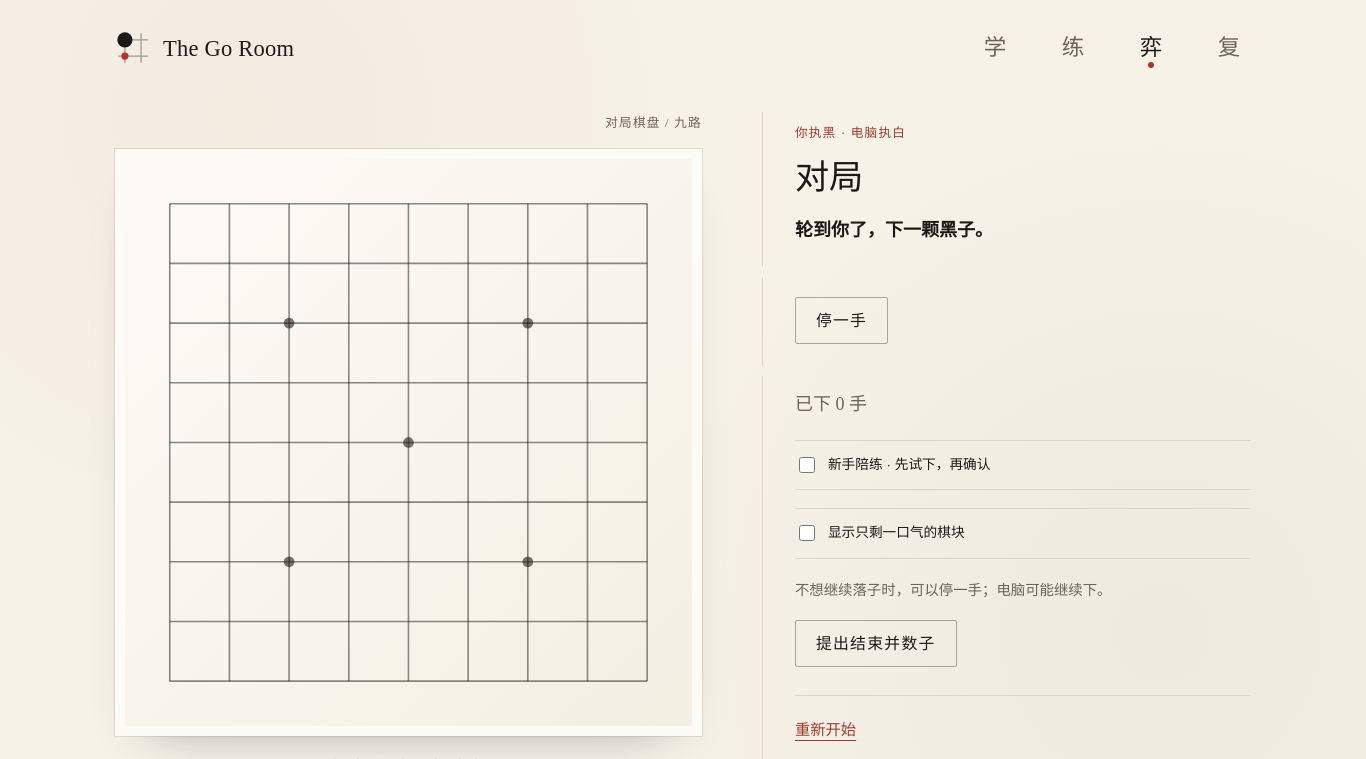
Test case: 对局到复盘的完整路径 › 确认数子后自动进入复盘并保存，重新挂载仍可回看
Later steps or results of the test are not shown.
Click the button "停一手": (842, 320) [795,297,888,344]
Wait 350 ms
(page scrolled)
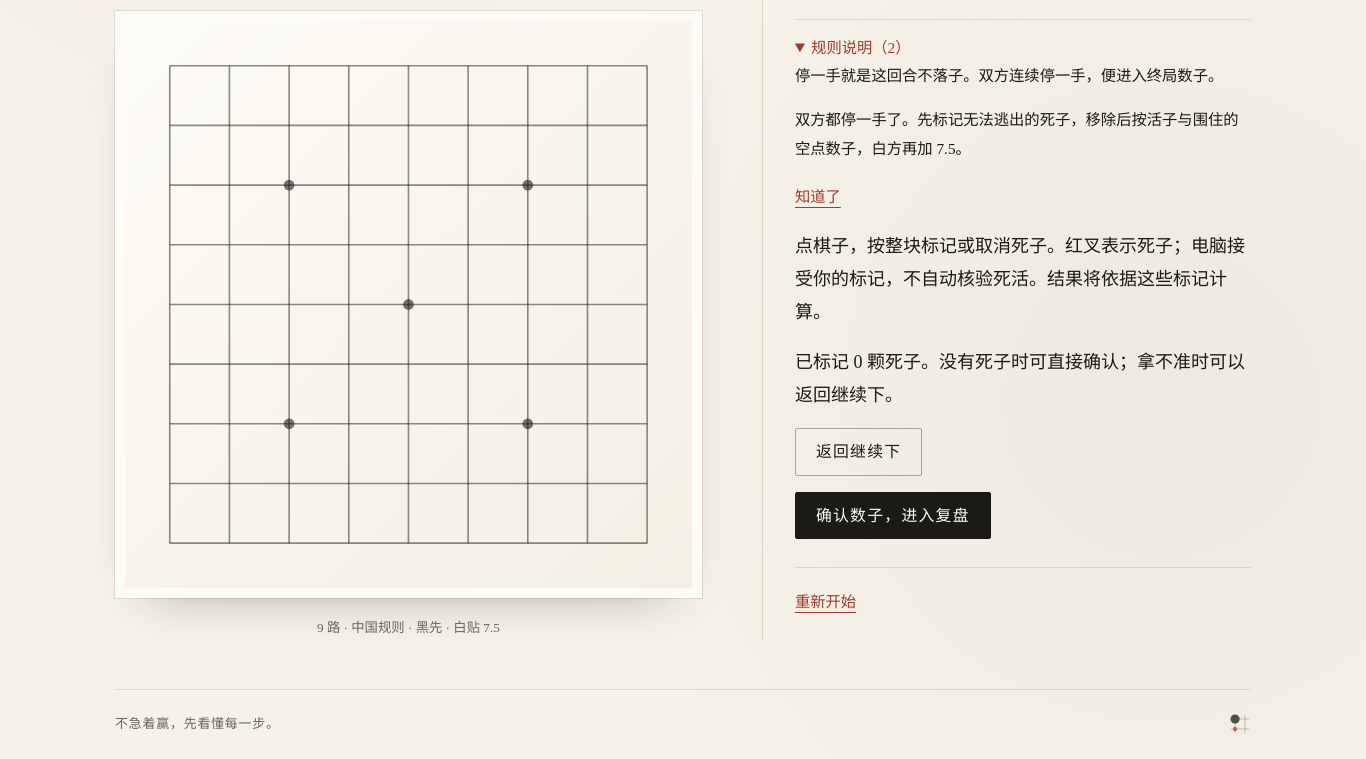
Click the button "确认数子，进入复盘": (893, 515) [795,492,991,539]
(page scrolled)
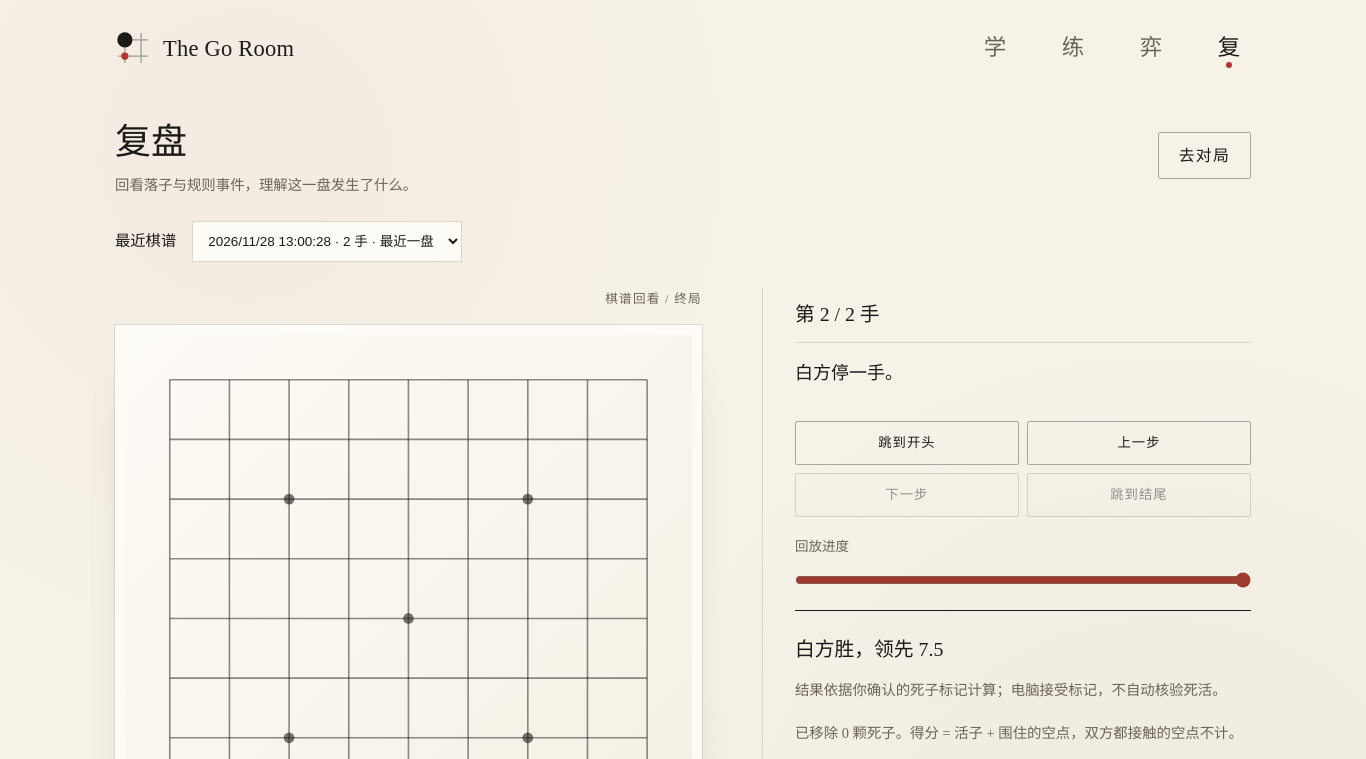
Result: the heading "白方胜，领先 7.5" is shown at [795,638,943,660]
Result: the heading "第 2 / 2 手" is shown at [795,303,880,325]
